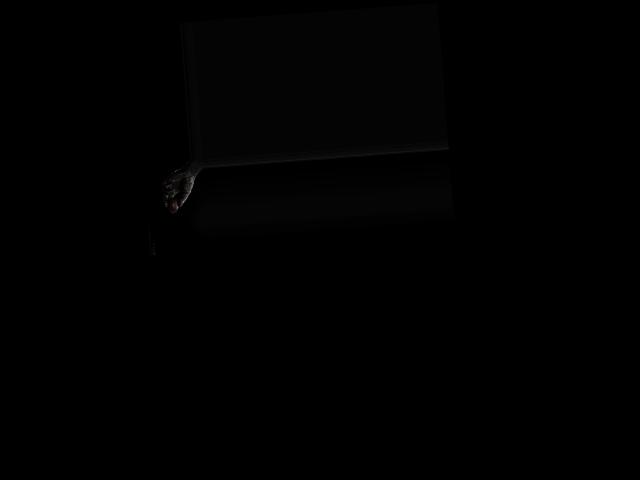egg: (166, 196, 179, 212)
